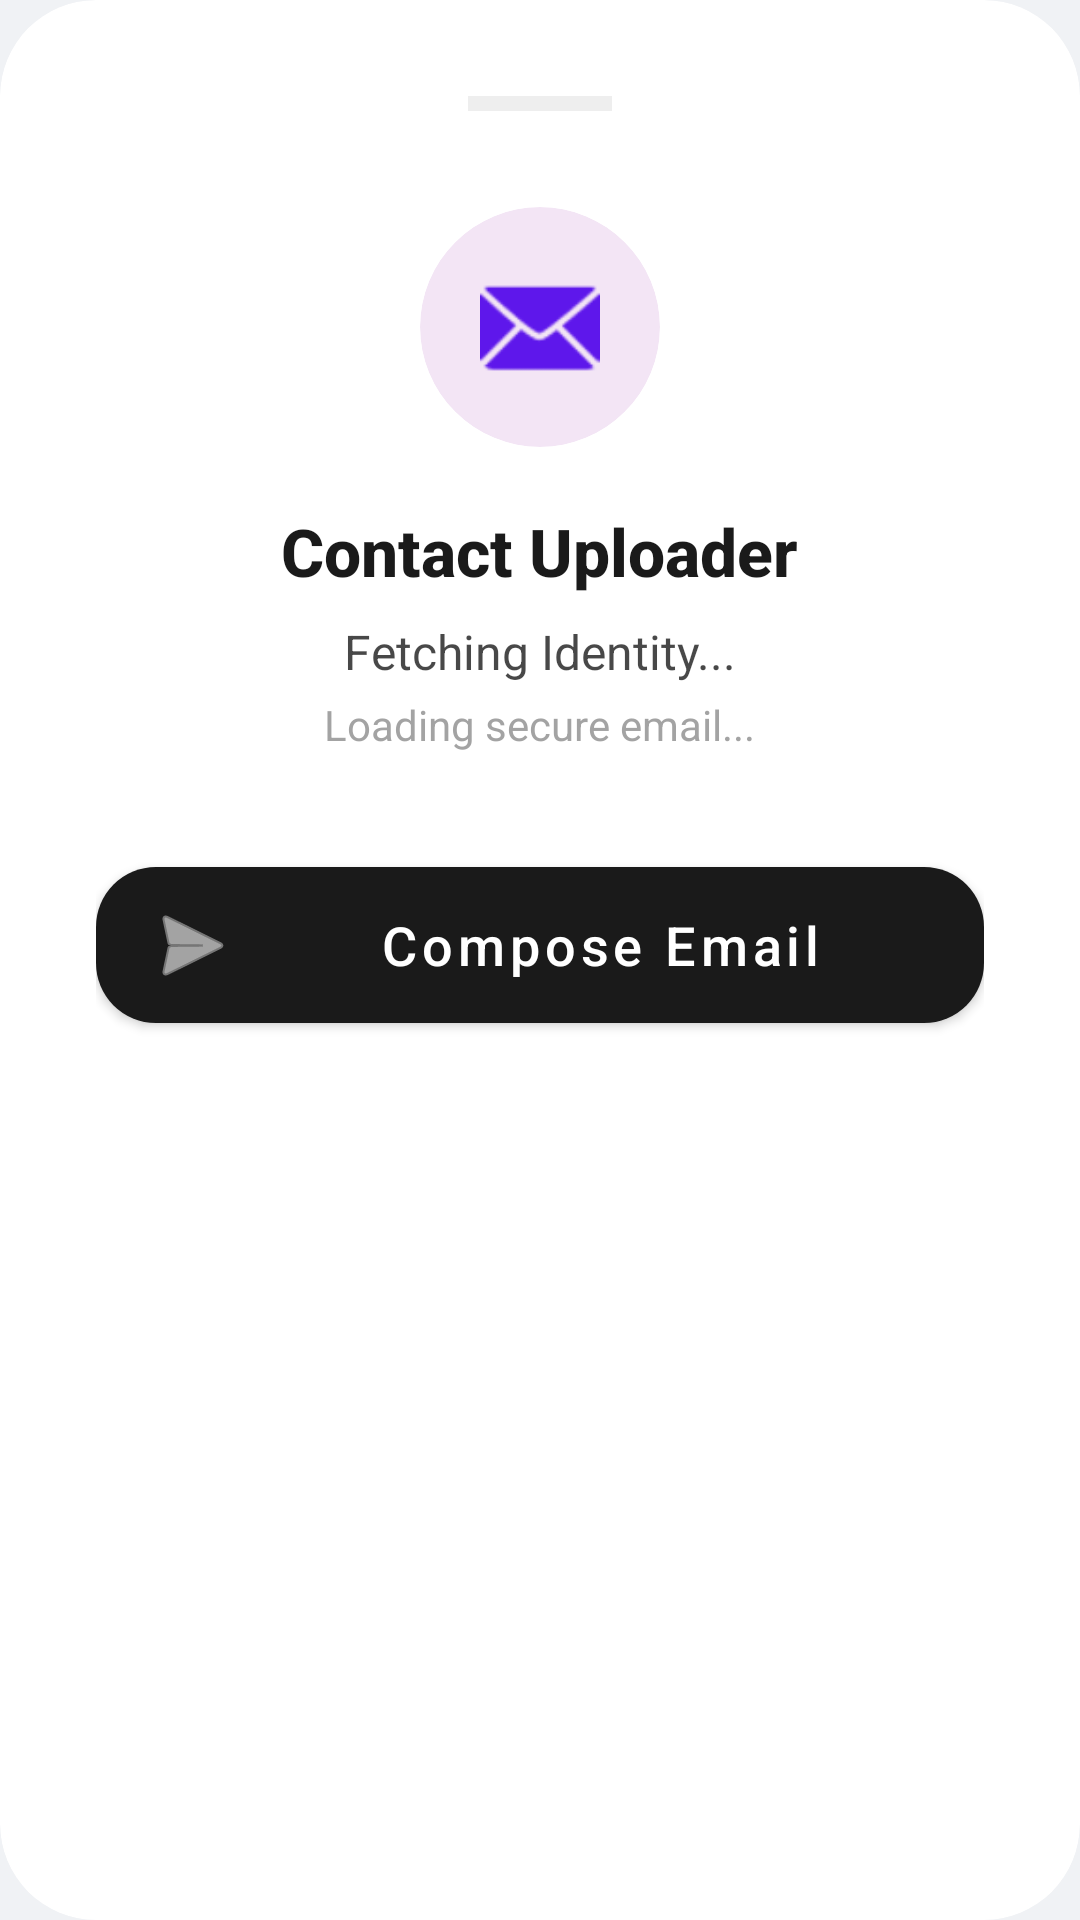

Screen size 1080w x 1920h. Icon name, then its box in pixels as (x1, y1, x2, y2):
email: (420, 207, 660, 447)
